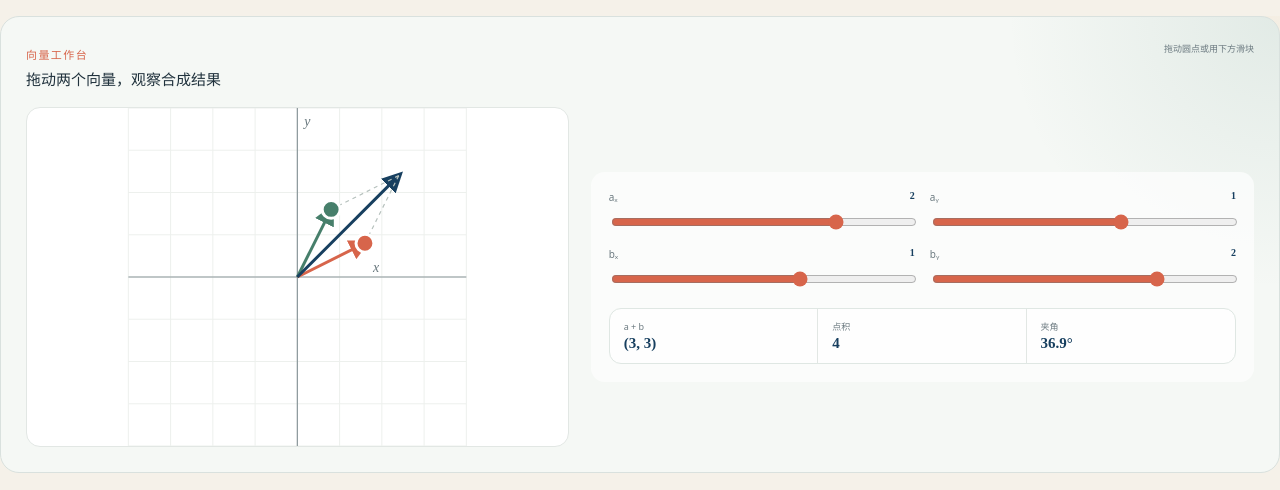
Test: interactive learning widgets › updates vector sum and dot product from controls
This screenshot has width=1280, height=490.
Set the slider labelled "aₓ" to "3" at (764, 222), box x1=611 y1=214 x2=917 y2=230
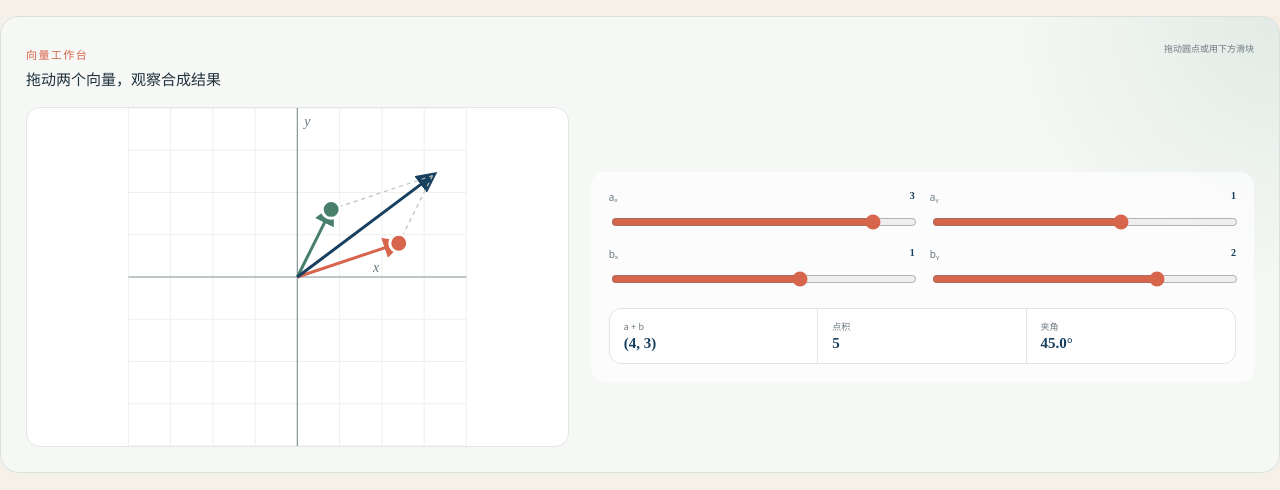
Check: the text "(4, 3)" is shown, box x1=624 y1=335 x2=656 y2=351
